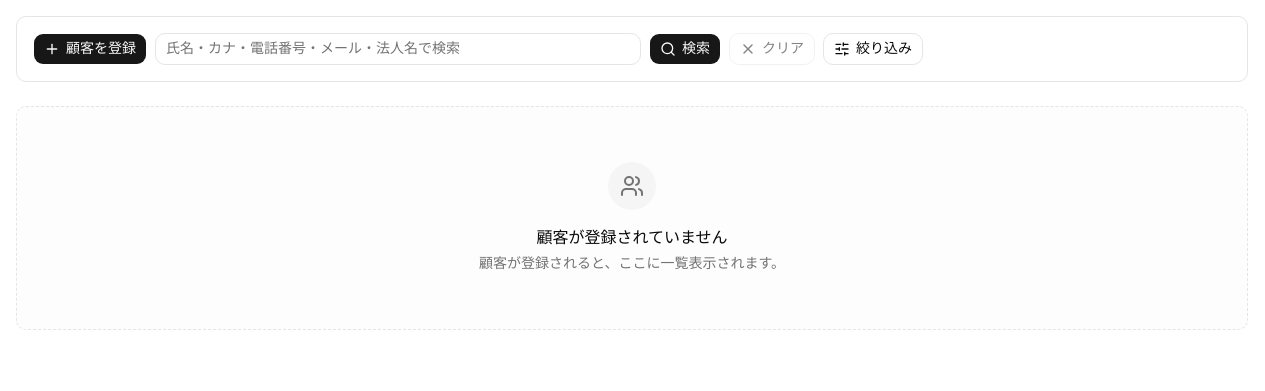
CustomerListPageClient › 検索条件をクリアすると、検索なしで顧客一覧を再取得する
Check: the text "顧客が登録されていません" is shown, box [536,226,728,250]
Type "山田" into the search field named "顧客検索キーワード" at (398, 49), box [155,33,641,65]
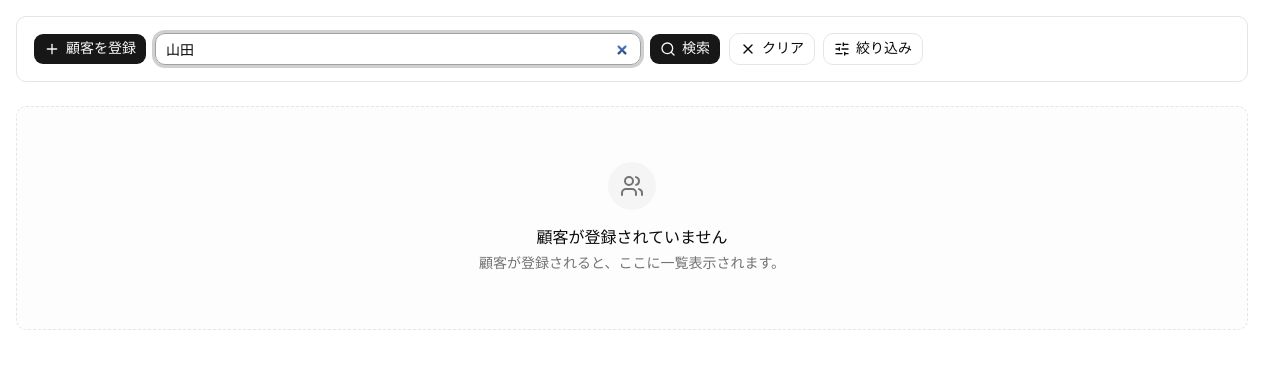
Click the button "検索" at (685, 49), box [649,33,721,65]
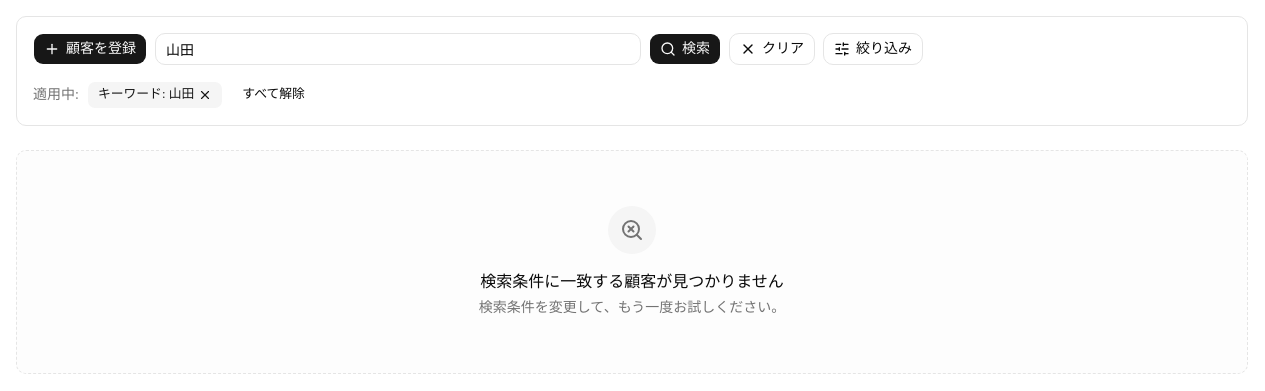
Check: the text "検索条件に一致する顧客が見つかりません" is shown, box [480,270,784,294]
Click the button "クリア" at (772, 49), box [729,33,815,65]
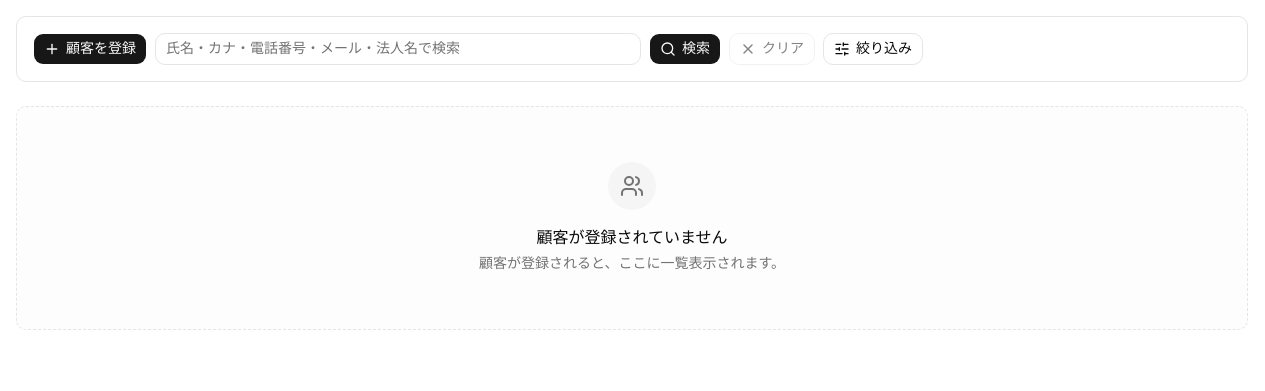
Check: the search field named "顧客検索キーワード" is empty, box [155,33,641,65]
Check: the text "顧客が登録されていません" is shown, box [536,226,728,250]
